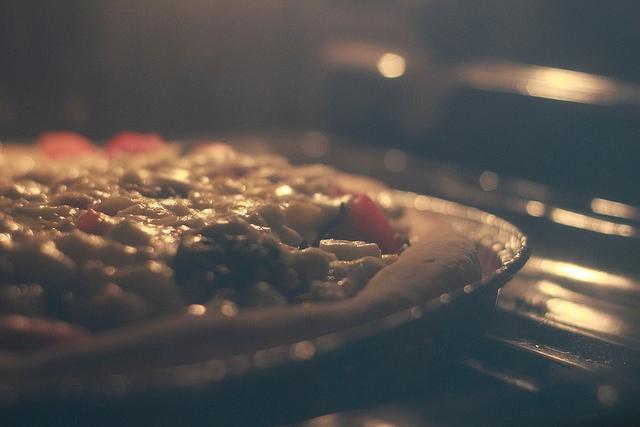tomato: (327, 193, 398, 254), (36, 131, 98, 159), (102, 132, 162, 159)
